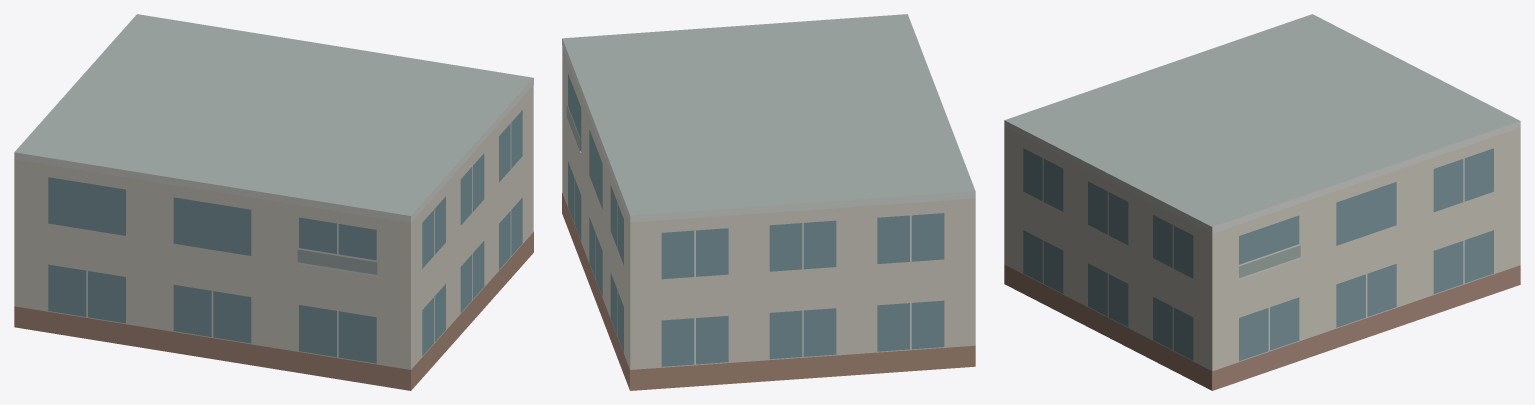
The model's file is survey-upis-32843192.glb.
3 views of the same model, side by side, from view 1: azimuth 30°, elevation 25°; view 2: azimuth 150°, elevation 25°; view 3: azimuth 270°, elevation 25° (orthographic). The views are drawn at different scales.
Parts seen in each view (by area): view 1: survey-upis-32843192.tmp; view 2: survey-upis-32843192.tmp; view 3: survey-upis-32843192.tmp.
Boxes of the visible parts, bbox=[...] form: survey-upis-32843192.tmp: bbox=[14, 14, 533, 390]; survey-upis-32843192.tmp: bbox=[562, 14, 975, 390]; survey-upis-32843192.tmp: bbox=[1004, 14, 1520, 390].
Size of the model in its own units: 17.02 by 6.1 by 17.43.
